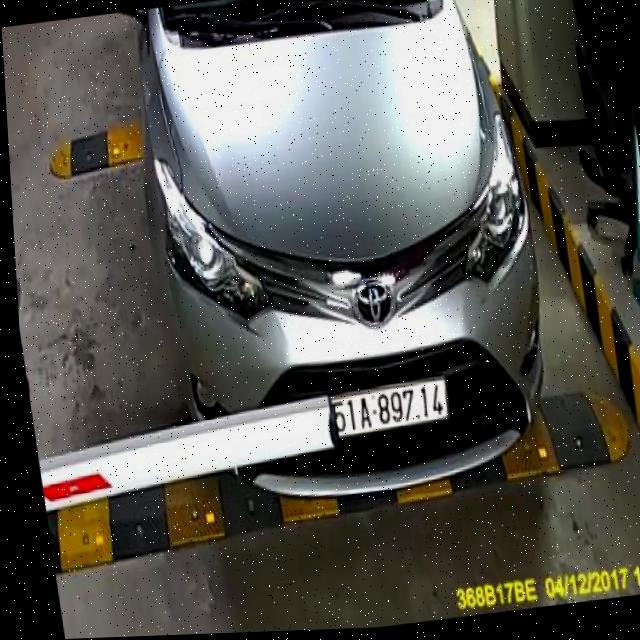car: (114, 0, 571, 522)
plate: (317, 375, 454, 442)
